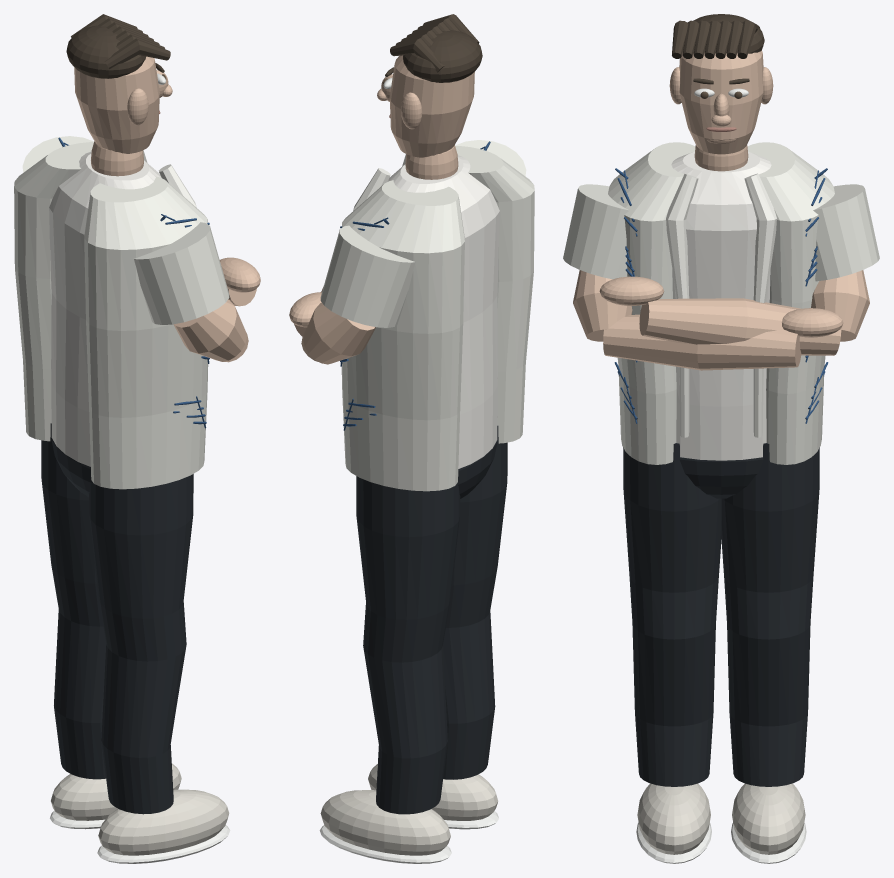
The model's file is person.glb.
3 renders of one model, left to right at view 1: azimuth 30°, elevation 25°; view 2: azimuth 150°, elevation 25°; view 3: azimuth 270°, elevation 25°, orthographic.
Size of the model in its own units: 0.3855 by 1.8 by 0.6373.
